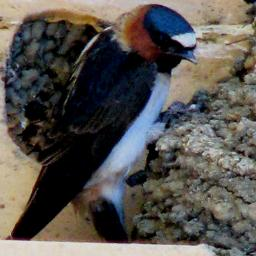Swallow: (0, 0, 199, 242)
